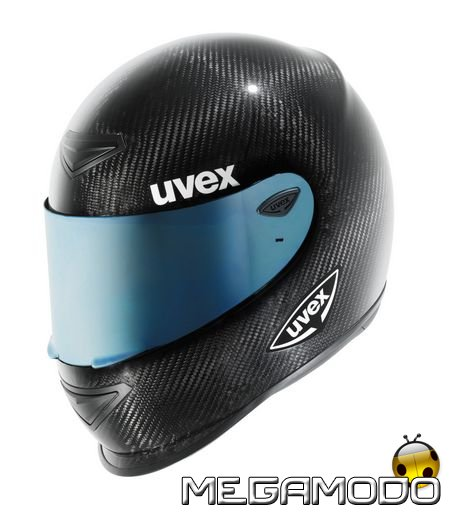helmet: (50, 53, 393, 431)
